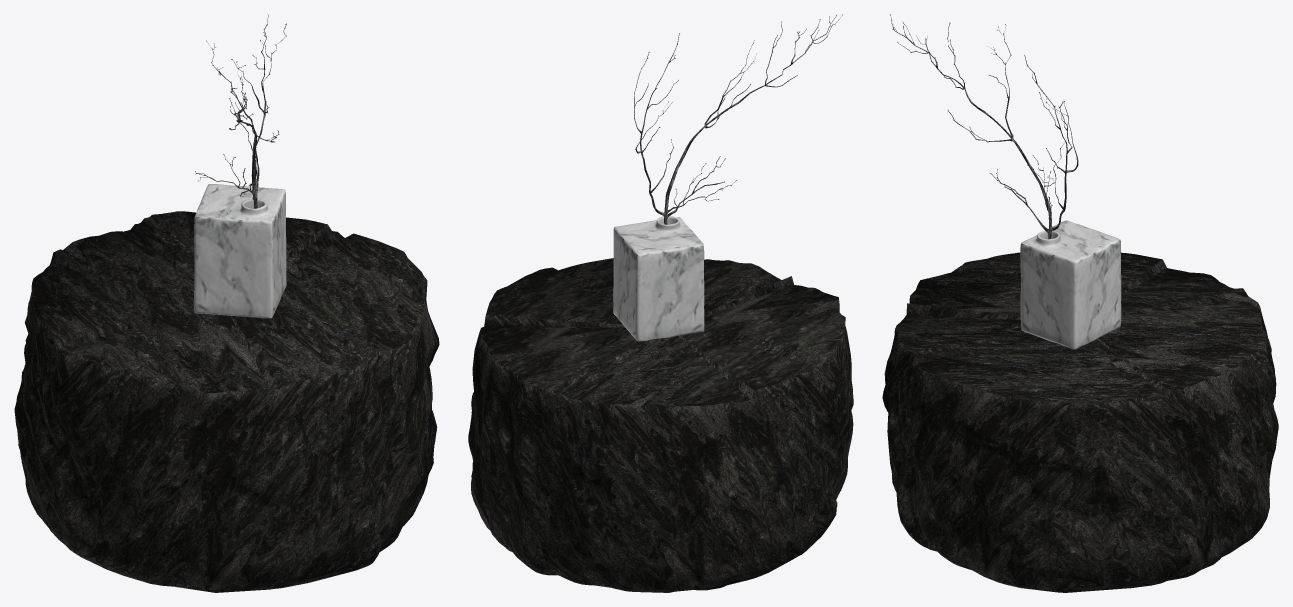
Rendered from casual-table.glb.
3 views of the same model, side by side, from view 1: azimuth 30°, elevation 25°; view 2: azimuth 150°, elevation 25°; view 3: azimuth 270°, elevation 25° (orthographic). The views are drawn at different scales.
Visible parts, largest first — view 1: table, vas, steams; view 2: table, vas, steams; view 3: table, vas, steams.
Boxes of the visible parts, box(x1,y1,x2,y2) form: table: box(14, 211, 439, 592); vas: box(193, 184, 286, 318); steams: box(195, 14, 286, 208); table: box(468, 258, 853, 592); vas: box(613, 215, 704, 341); steams: box(634, 14, 842, 224); table: box(882, 252, 1278, 592); vas: box(1020, 220, 1121, 349); steams: box(890, 14, 1078, 239).
Bounding box in the file's own units: 0.6049 × 0.8294 × 0.6204.
Materials: 4 (4 with a texture image).
